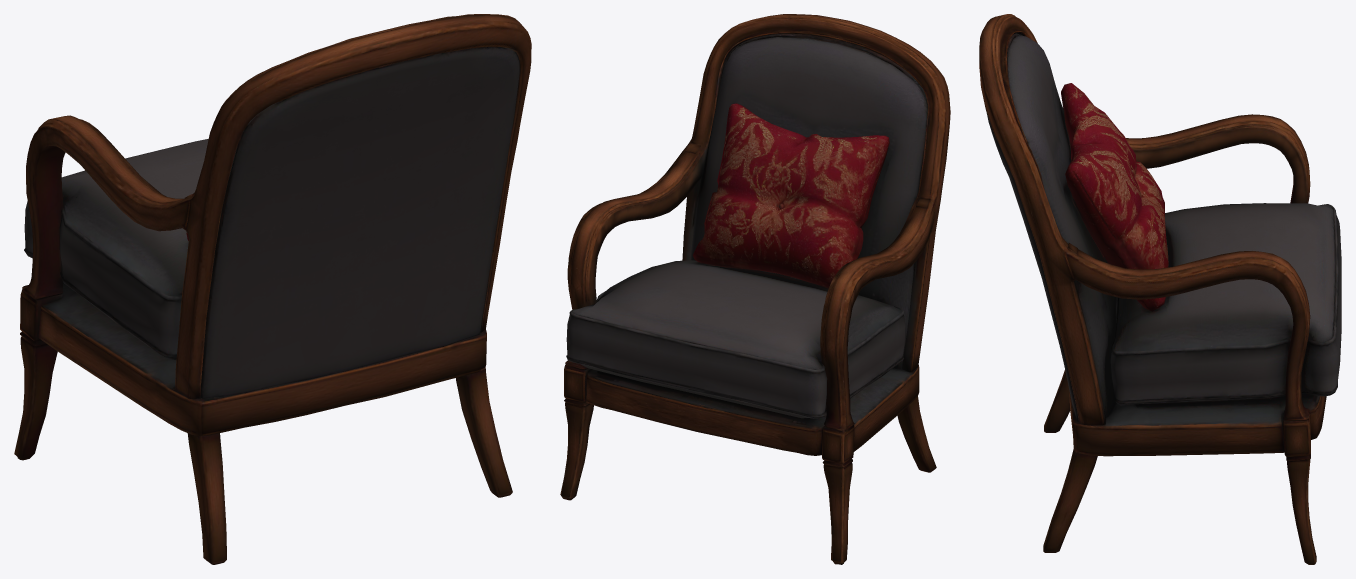
The model's file is furniture-armchair-curved.glb.
The picture shows the model from 3 angles, left to right: view 1: azimuth 30°, elevation 25°; view 2: azimuth 150°, elevation 25°; view 3: azimuth 270°, elevation 25°; orthographic projection. The views are drawn at different scales.
Parts seen in each view (by area): view 1: tripo_node_0da2ad79-a8fa-485b-84ad-0d1d33b97c95; view 2: tripo_node_0da2ad79-a8fa-485b-84ad-0d1d33b97c95; view 3: tripo_node_0da2ad79-a8fa-485b-84ad-0d1d33b97c95.
Part boxes in pixels (left/top/right/bottom): tripo_node_0da2ad79-a8fa-485b-84ad-0d1d33b97c95: left=14, top=14, right=531, bottom=564; tripo_node_0da2ad79-a8fa-485b-84ad-0d1d33b97c95: left=560, top=14, right=950, bottom=564; tripo_node_0da2ad79-a8fa-485b-84ad-0d1d33b97c95: left=979, top=14, right=1341, bottom=564.
Size of the model in its own units: 0.7 by 0.95 by 0.7.
1 material, 1 textured.
